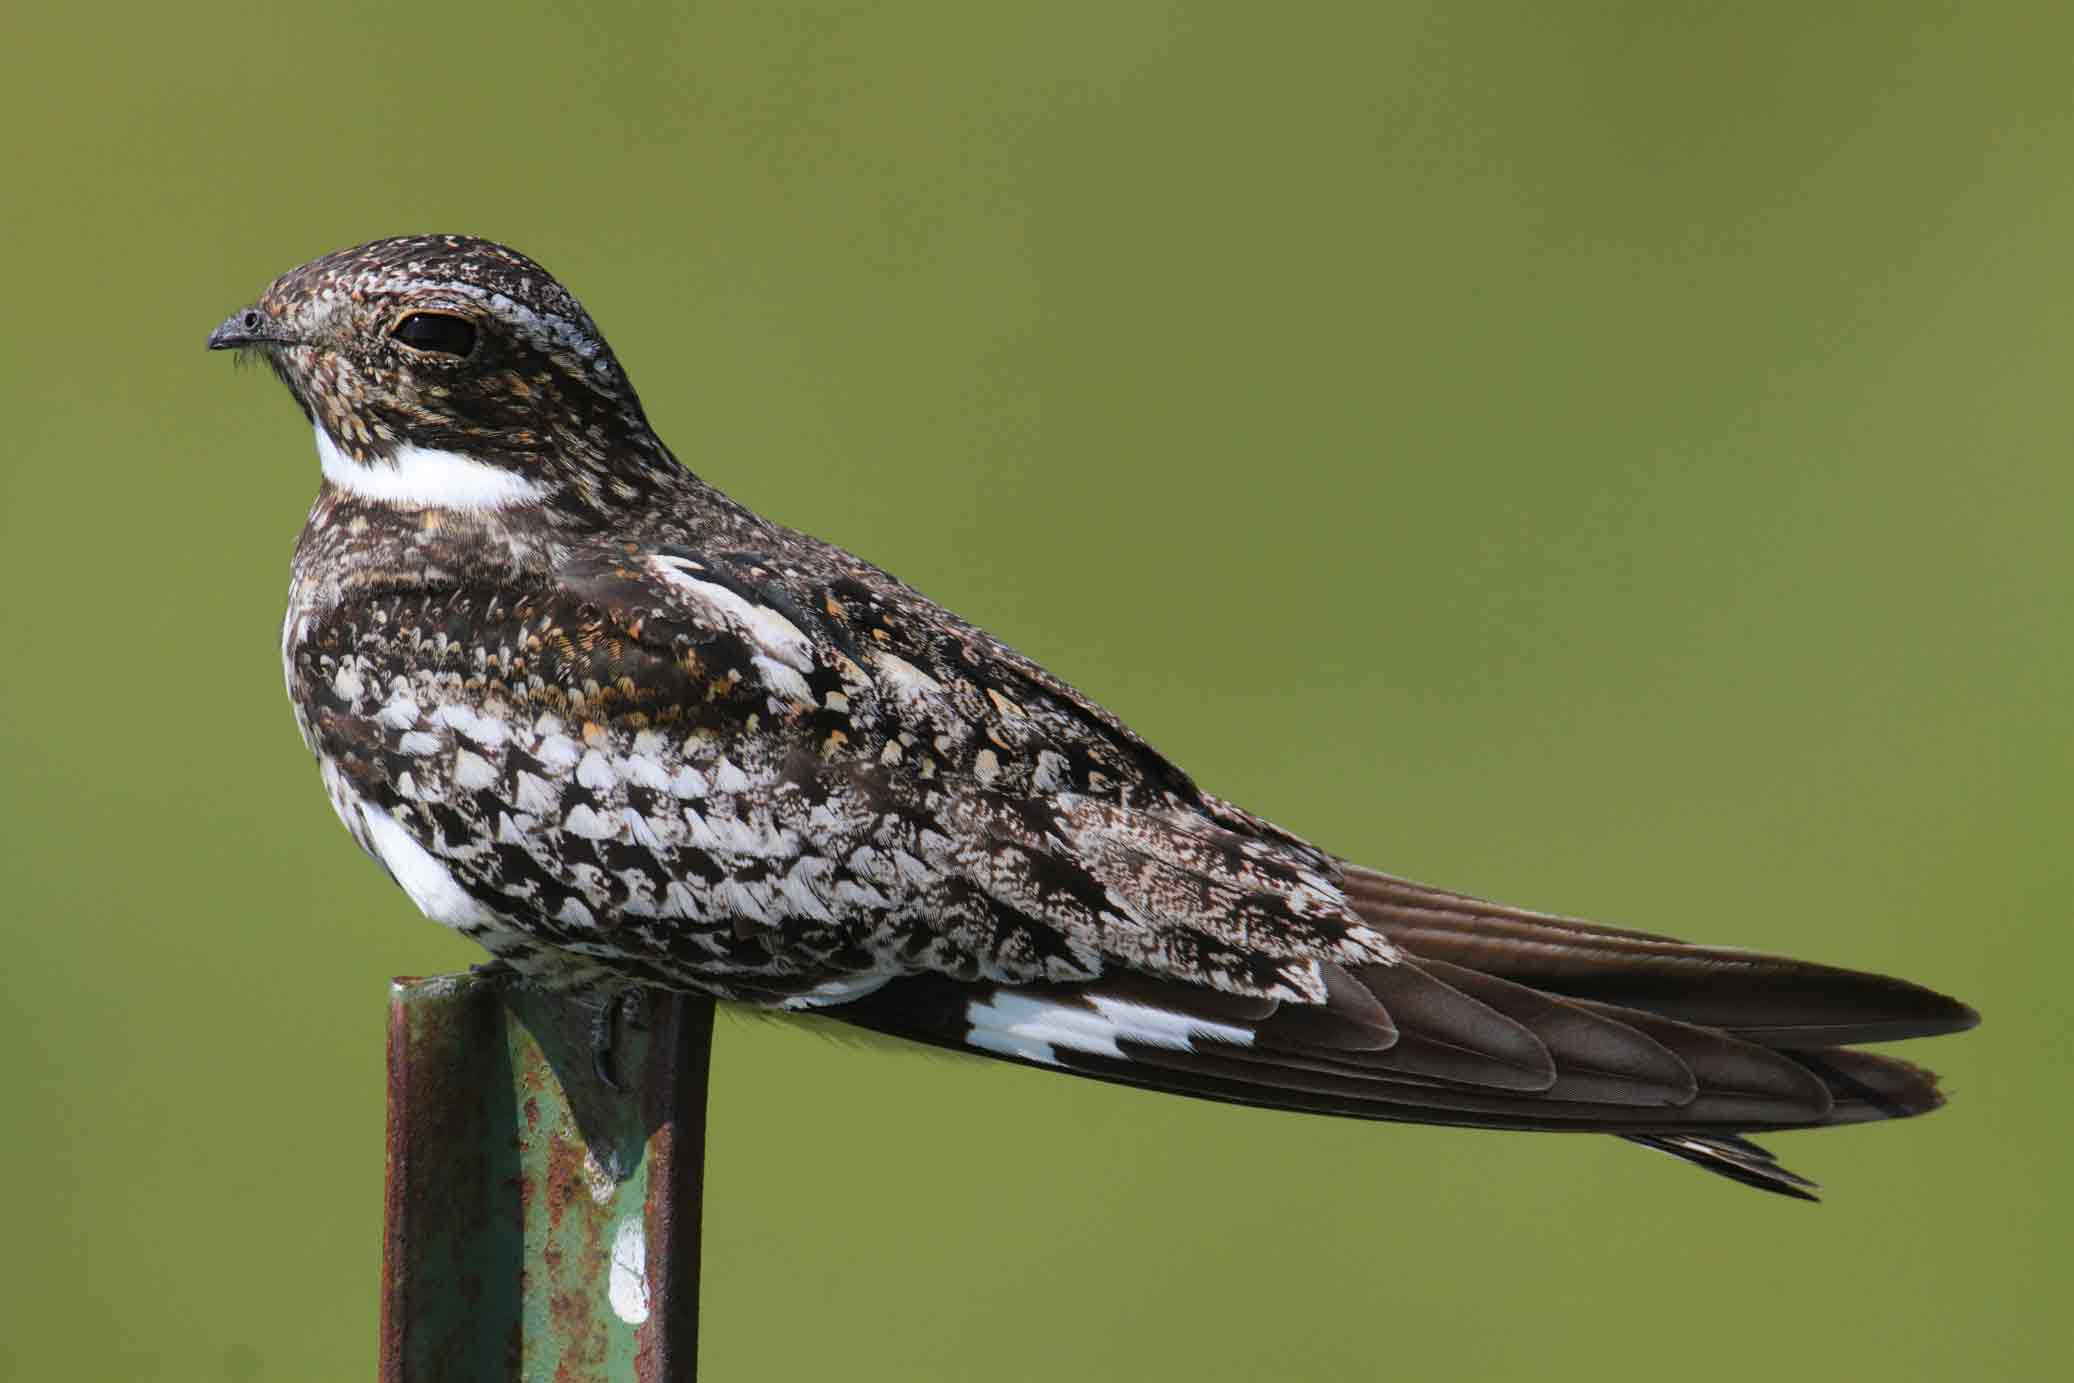bird: (151, 173, 2034, 1295)
